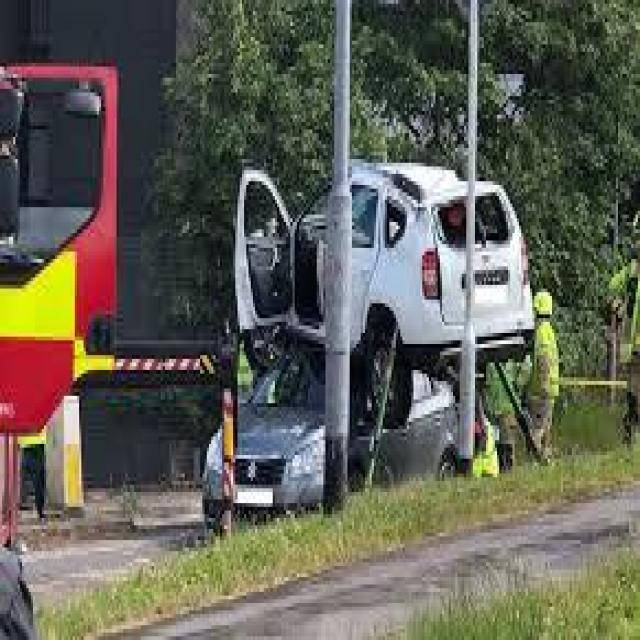accident: (198, 129, 541, 518)
